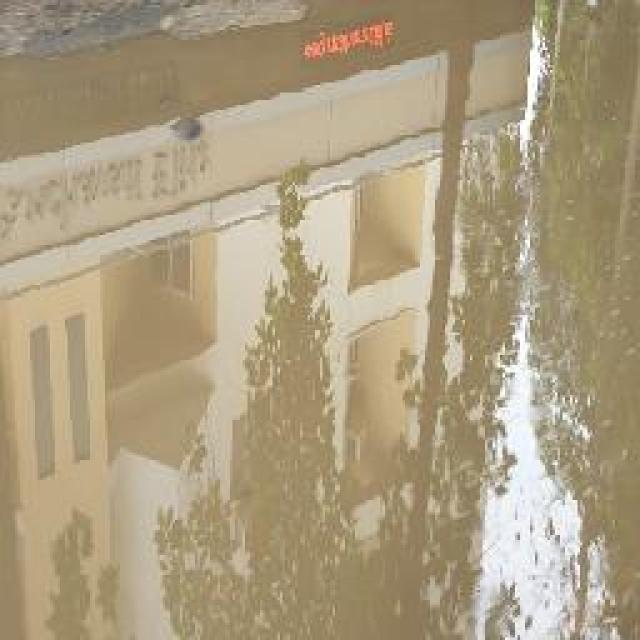waterlogging: (2, 2, 640, 638)
